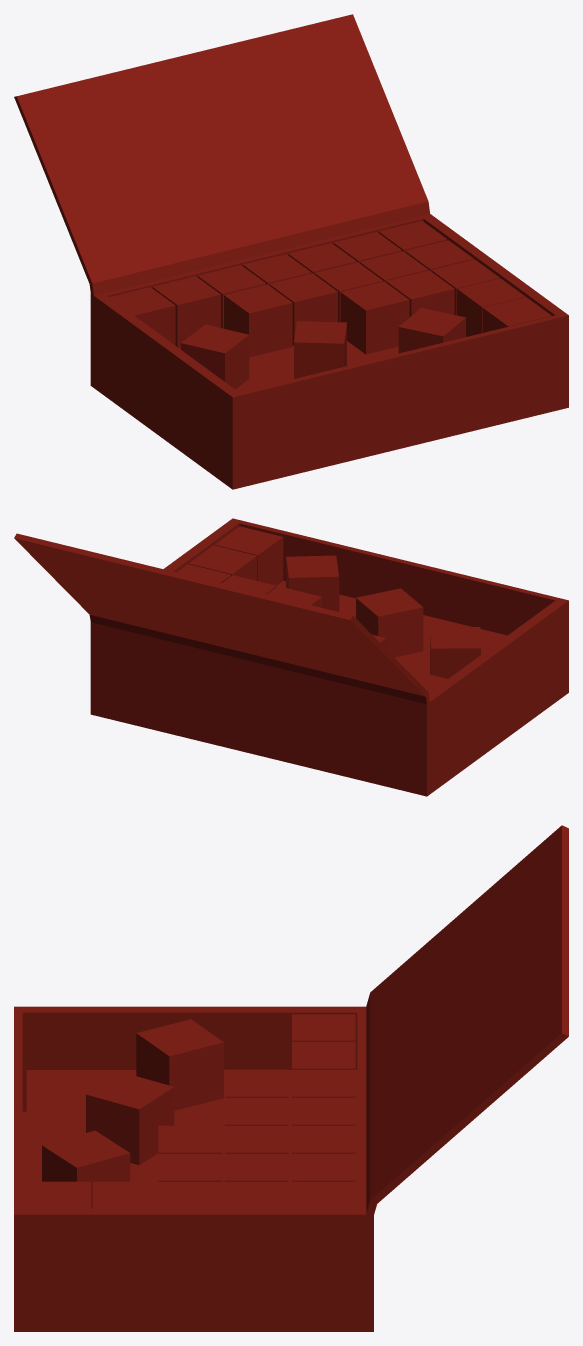
The model's file is Pudełko od cukru.fbx.
3 views of the same model, one above another, from view 1: azimuth 30°, elevation 25°; view 2: azimuth 150°, elevation 25°; view 3: azimuth 270°, elevation 25° (orthographic). The views are drawn at different scales.
Parts seen in each view (by area): view 1: Pudełko od cukru; view 2: Pudełko od cukru; view 3: Pudełko od cukru.
Part boxes in pixels (x1,y1,x2,y2): Pudełko od cukru: (14,14,568,489); Pudełko od cukru: (14,518,568,796); Pudełko od cukru: (14,825,568,1331).
Bounding box in the file's own units: 9.11 × 6.09 × 10.27.
